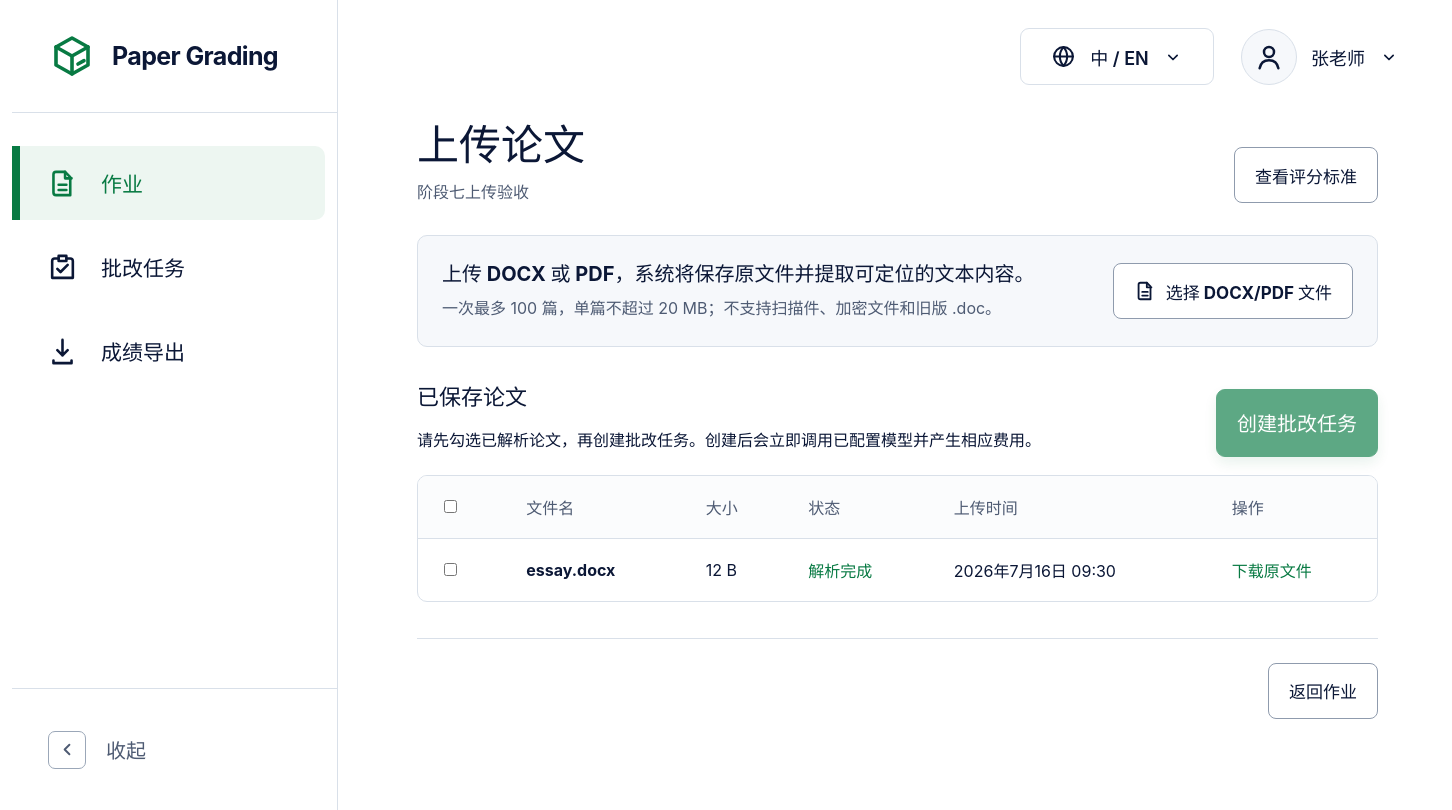
Test: 阶段七论文上传 › shows a safe message when remaining capacity cannot be verified
This screenshot has width=1452, height=810.
Expected: the text "essay.docx" is shown, [526,560,615,580]
What coordinates should you click on to do the following:
click the checkbox named "选择 essay.docx"
I would click on:
 (450, 569)
Its box is [444,563,457,576].
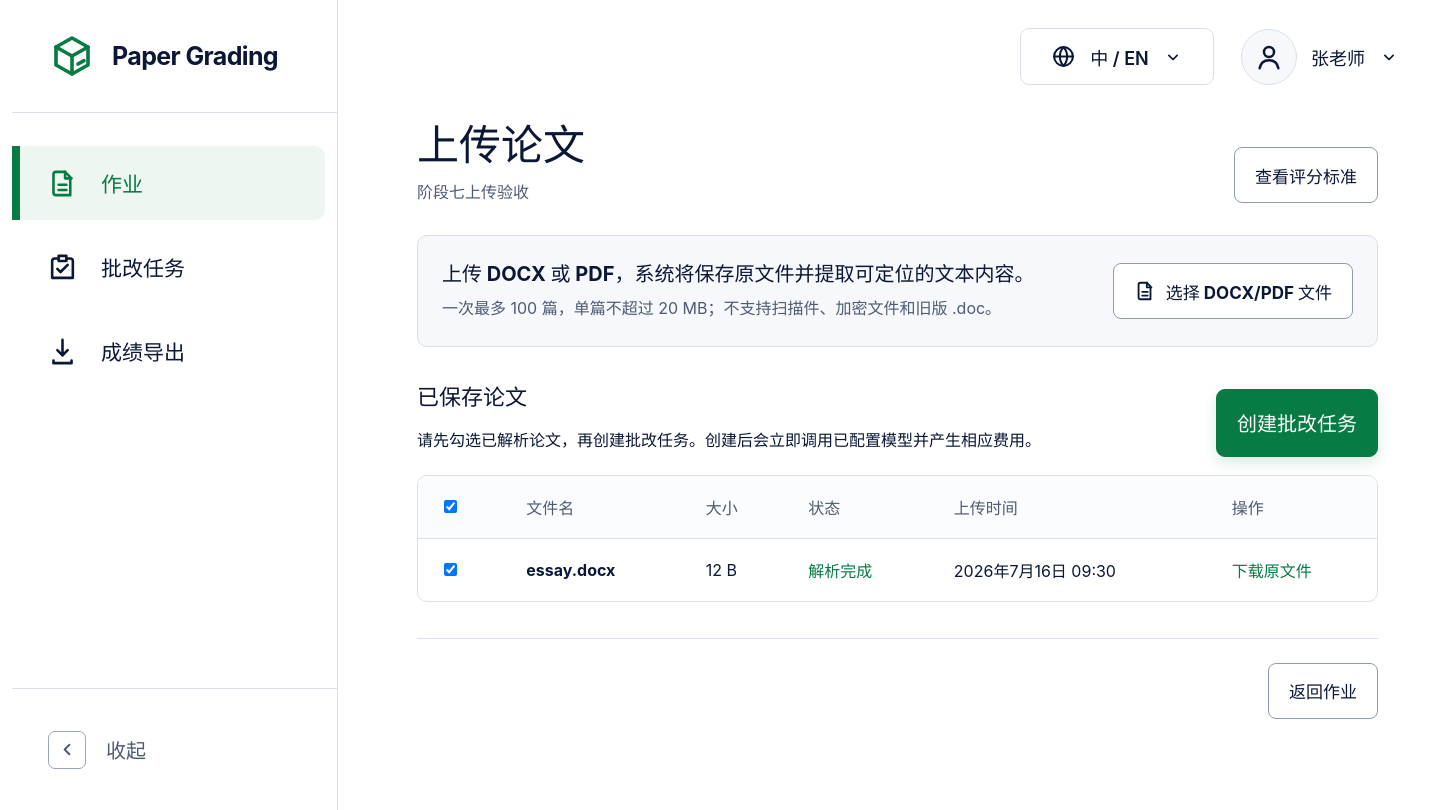
What coordinates should you click on to do the following:
click the button "创建批改任务"
I would click on:
 (1297, 423)
Its box is [1216,389,1378,457].
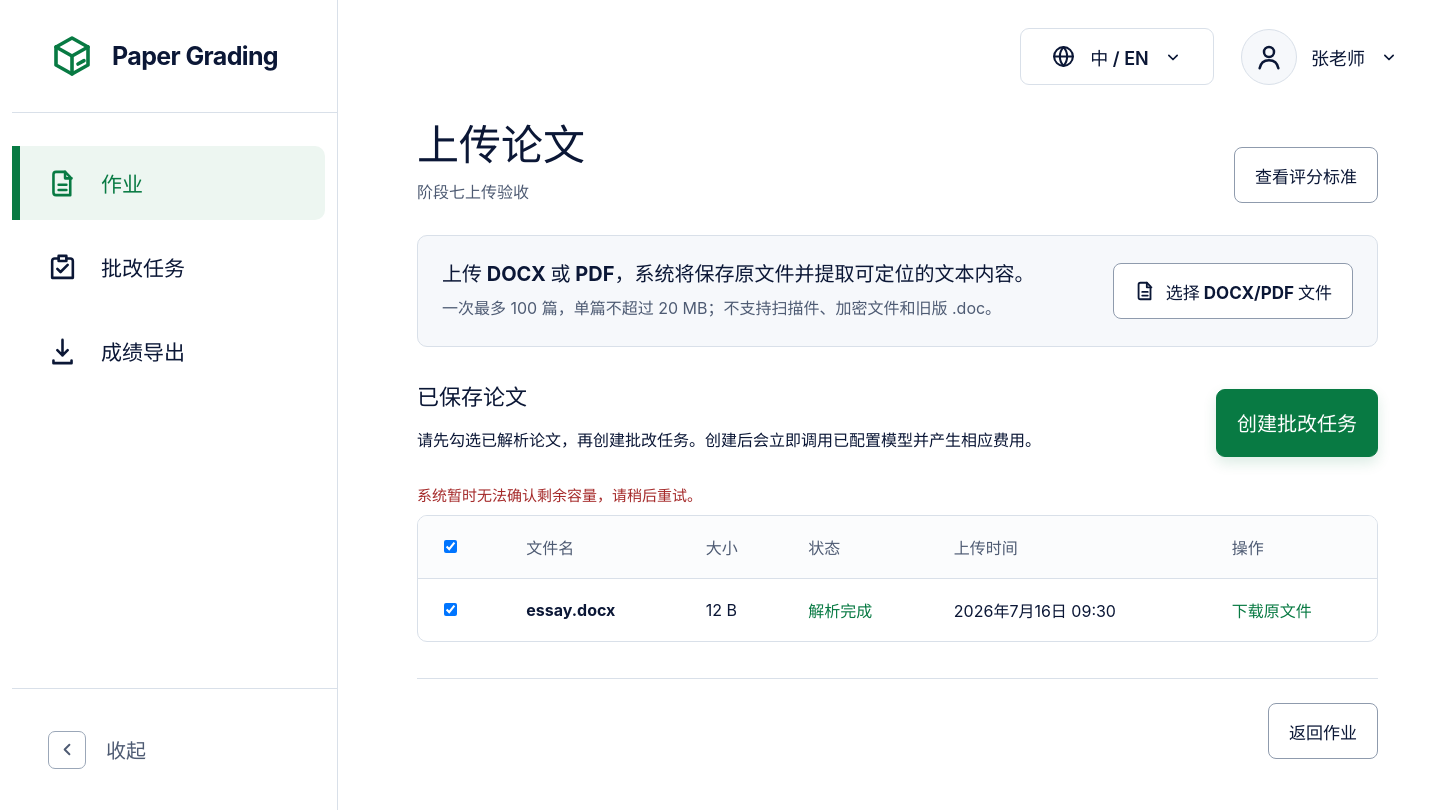
Now the text "系统暂时无法确认剩余容量，请稍后重试。" is shown, box [417,486,702,505]
